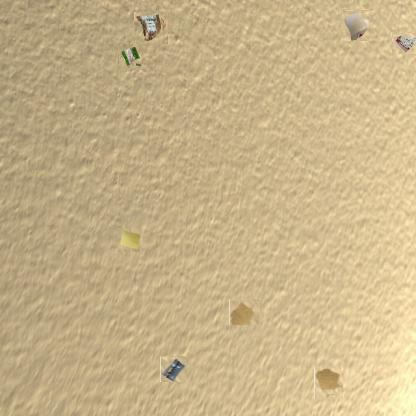dirty: (134, 12, 168, 44), (341, 9, 373, 42), (160, 356, 187, 382), (118, 228, 142, 252), (118, 44, 142, 68), (393, 30, 416, 55)
liquid: (314, 367, 343, 399), (229, 300, 260, 326)
